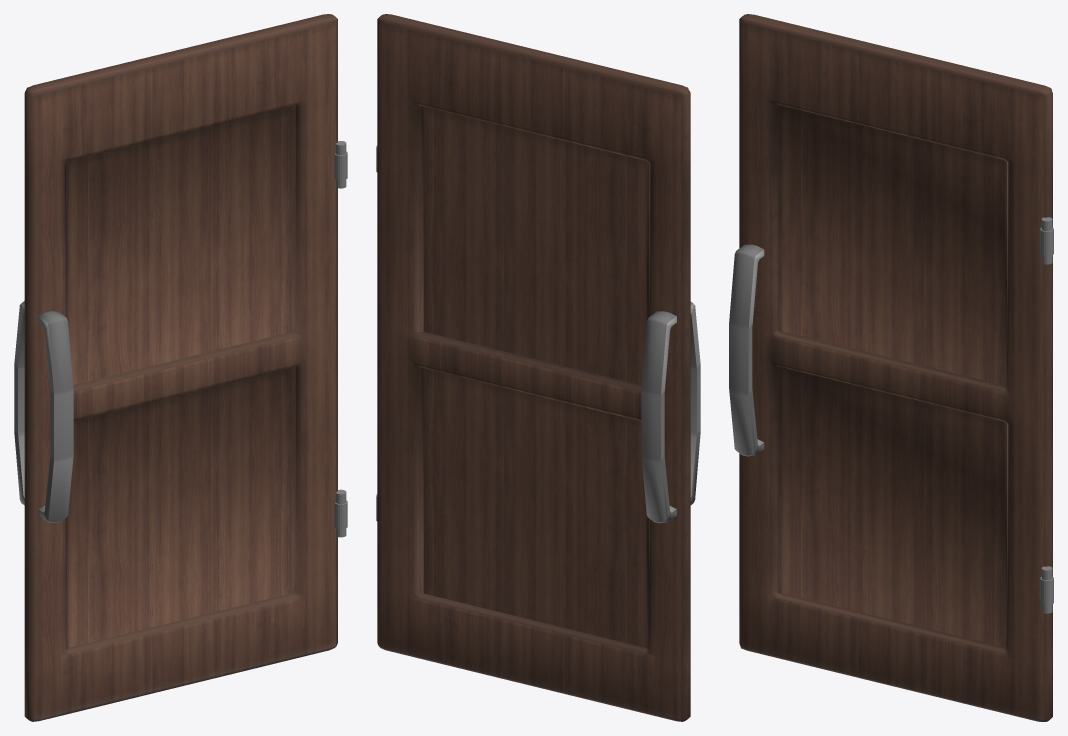
The model's file is R_Doors.fbx.
3 views of the same model, side by side, from view 1: azimuth 30°, elevation 25°; view 2: azimuth 150°, elevation 25°; view 3: azimuth 330°, elevation 25° (orthographic).
Visible parts, largest first — view 1: Door; view 2: Door; view 3: Door.
Boxes of the visible parts, bbox=[...] form: Door: bbox=[14, 14, 347, 721]; Door: bbox=[376, 14, 700, 721]; Door: bbox=[729, 14, 1053, 721].
Size of the model in its own units: 645 by 1236 by 148.
Materials: 1 (1 with a texture image).
